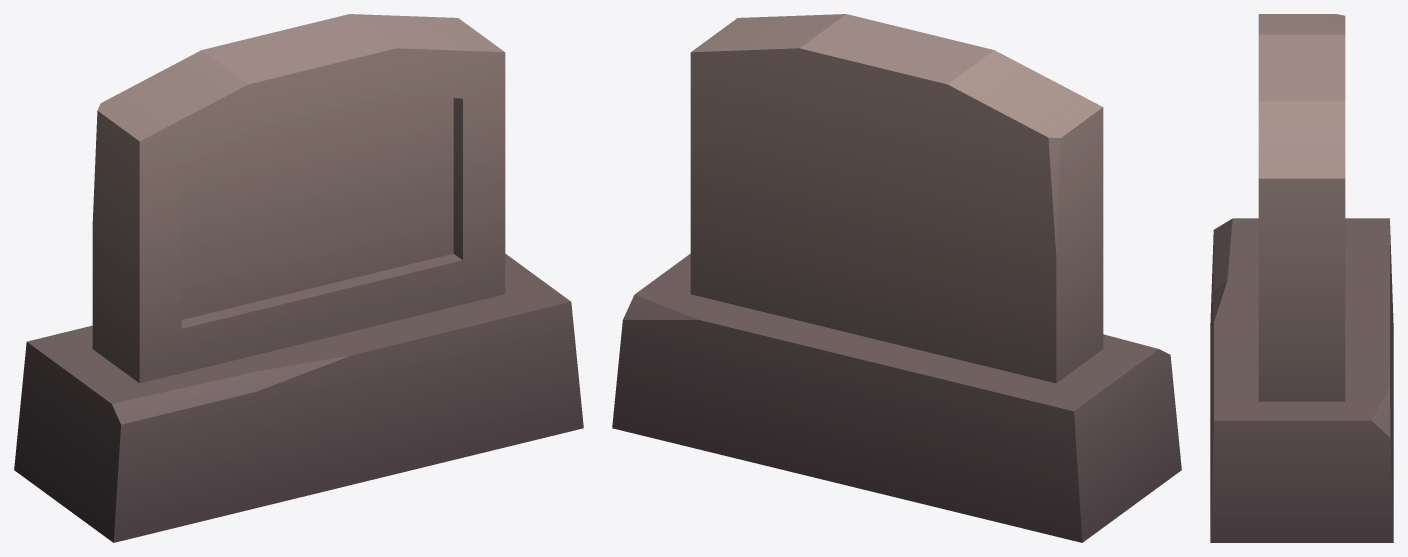
The model's file is tombstone7.glb.
The picture shows the model from 3 angles, left to right: view 1: azimuth 30°, elevation 25°; view 2: azimuth 150°, elevation 25°; view 3: azimuth 270°, elevation 25°; orthographic projection. The views are drawn at different scales.
Parts seen in each view (by area): view 1: tombstone7; view 2: tombstone7; view 3: tombstone7.
Part boxes in pixels (x1,y1,x2,y2): tombstone7: [14, 14, 583, 542]; tombstone7: [612, 14, 1181, 542]; tombstone7: [1210, 14, 1393, 542].
Bounding box in the file's own units: 1.09 × 0.8845 × 0.3988.
1 material, 1 textured.
